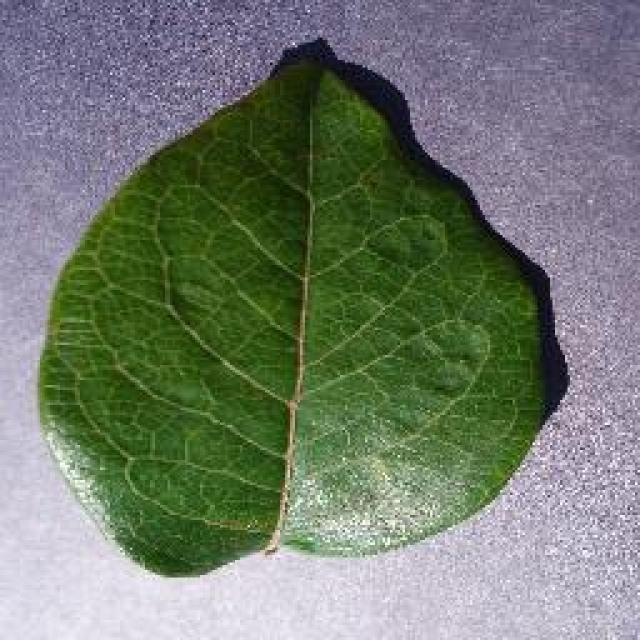Blu_healthy: (52, 136, 526, 524)
